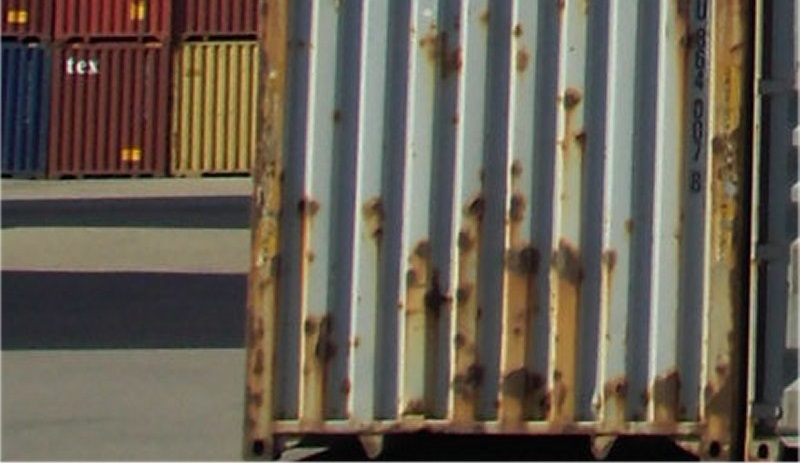container_no_door: (239, 1, 743, 452), (48, 41, 173, 182), (176, 37, 252, 181), (1, 40, 50, 184)
